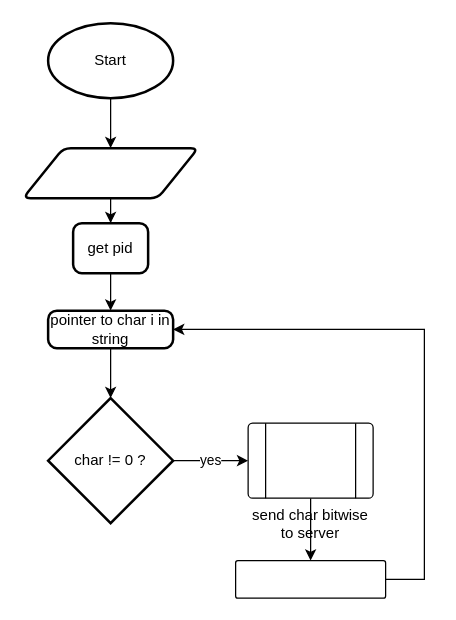
Some shapes in this 456 by 620 pixel diagram are drawn without their labels. Here are the shapes that lost their labels. From the top down, the centre of each, then its label:
At [110,172]: "string message".
At [310,578]: "increase i".
